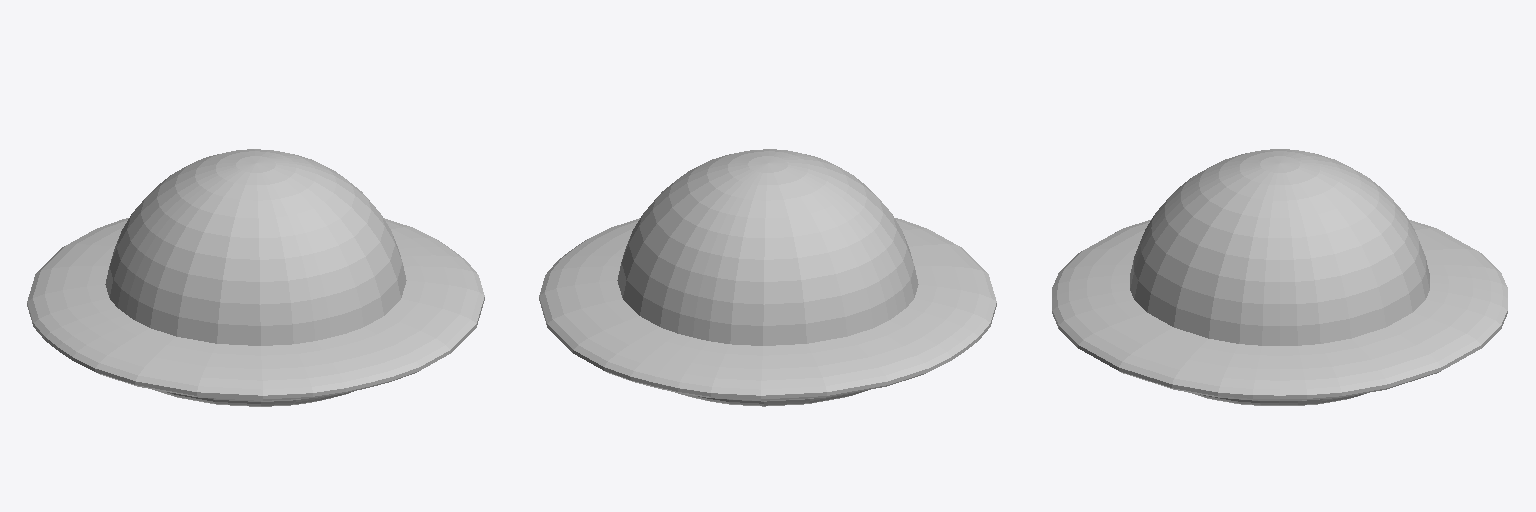
File: small_nave.obj
3 renders of one model, left to right at view 1: azimuth 30°, elevation 25°; view 2: azimuth 150°, elevation 25°; view 3: azimuth 270°, elevation 25°, orthographic.
Visible parts, largest first — view 1: SurfSphere, SurfSphere.001, SurfTorus_SurfTorus.001; view 2: SurfSphere, SurfSphere.001, SurfTorus_SurfTorus.001; view 3: SurfSphere, SurfSphere.001, SurfTorus_SurfTorus.001.
Part boxes in pixels (x1,y1,x2,y2): SurfSphere: (105, 149, 406, 345); SurfSphere.001: (27, 218, 484, 400); SurfTorus_SurfTorus.001: (152, 389, 353, 406); SurfSphere: (617, 149, 918, 345); SurfSphere.001: (539, 218, 996, 400); SurfTorus_SurfTorus.001: (675, 390, 867, 406); SurfSphere: (1130, 149, 1429, 345); SurfSphere.001: (1052, 219, 1507, 400); SurfTorus_SurfTorus.001: (1188, 392, 1366, 405).
Size of the model in its own units: 4.75 by 2.13 by 4.75.